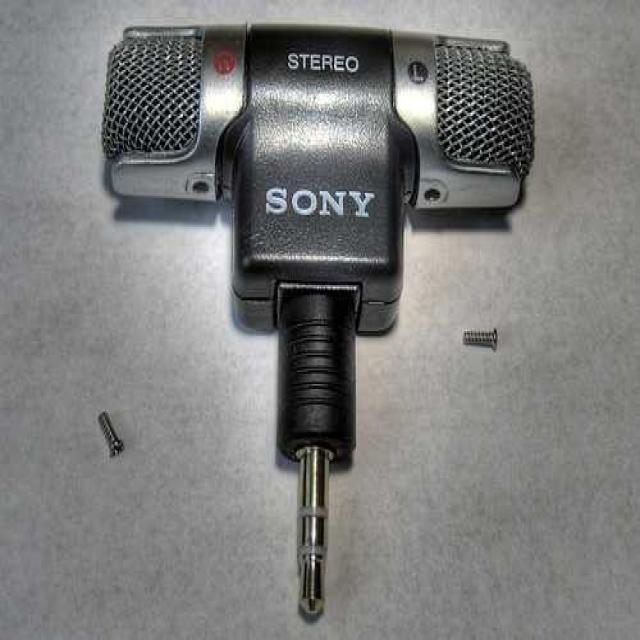microphone: (104, 22, 530, 185)
